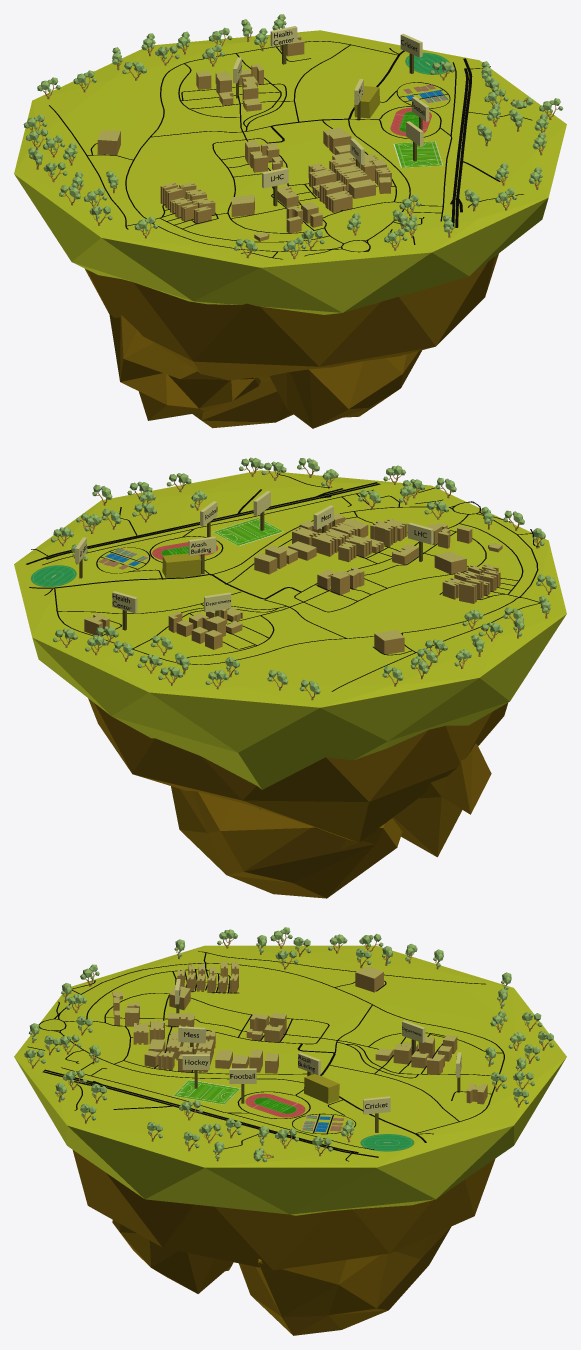
The model's file is clgmodel13.glb.
The picture shows the model from 3 angles, top to bottom: view 1: azimuth 30°, elevation 25°; view 2: azimuth 150°, elevation 25°; view 3: azimuth 270°, elevation 25°; orthographic projection. The views are drawn at different scales.
Parts seen in each view (by area): view 1: Icosphere.003, Icosphere.004, map.osm_buildings, Icosphere.006, Icosphere.005, map.osm_roads_service, Icosphere.008, map.osm_roads_trunk, hockey-preview, 4-removebg-preview, Cube.003, cricket-preview; view 2: Icosphere.003, Icosphere.004, Icosphere.008, map.osm_buildings, Icosphere.006, map.osm_roads_service, map.osm_roads_trunk, hockey-preview, Cube.003, cricket-preview; view 3: Icosphere.003, Icosphere.004, Icosphere.008, map.osm_buildings, map.osm_roads_service, Icosphere.005, hockey-preview, map.osm_roads_trunk, 4-removebg-preview, Cube.003, cricket-preview.
Boxes of the visible parts, x1,y1,x2,y2 form: Icosphere.003: (14,30,566,314); Icosphere.004: (85,253,498,381); map.osm_buildings: (97,34,391,241); Icosphere.006: (109,312,260,420); Icosphere.005: (269,350,421,428); map.osm_roads_service: (49,41,532,259); Icosphere.008: (193,381,293,428); map.osm_roads_trunk: (450,58,472,227); hockey-preview: (393,141,442,167); 4-removebg-preview: (390,107,431,136); Cube.003: (354,86,379,118); cricket-preview: (405,52,449,74); Icosphere.003: (14,470,566,810); Icosphere.004: (88,698,507,849); Icosphere.008: (171,786,402,898); map.osm_buildings: (84,513,502,654); Icosphere.006: (392,743,491,857); map.osm_roads_service: (31,473,540,691); map.osm_roads_trunk: (26,482,380,564); hockey-preview: (213,517,283,545); Cube.003: (162,553,201,578); cricket-preview: (31,565,76,586); Icosphere.003: (14,945,566,1215); Icosphere.004: (72,1150,495,1270); Icosphere.008: (239,1226,451,1335); map.osm_buildings: (112,961,487,1104); map.osm_roads_service: (27,951,504,1161); Icosphere.005: (112,1220,233,1293); hockey-preview: (173,1080,240,1104); map.osm_roads_trunk: (42,1069,378,1157); 4-removebg-preview: (245,1093,305,1117); Cube.003: (304,1074,339,1103); cricket-preview: (360,1134,413,1151).
Bounding box in the file's own units: 132 × 86.8 × 138.
26 materials, 6 textured.
